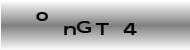4: (122, 21, 137, 36)
G: (76, 20, 92, 33)
T: (94, 21, 110, 36)
n: (62, 24, 76, 36)
o: (34, 11, 49, 21)
